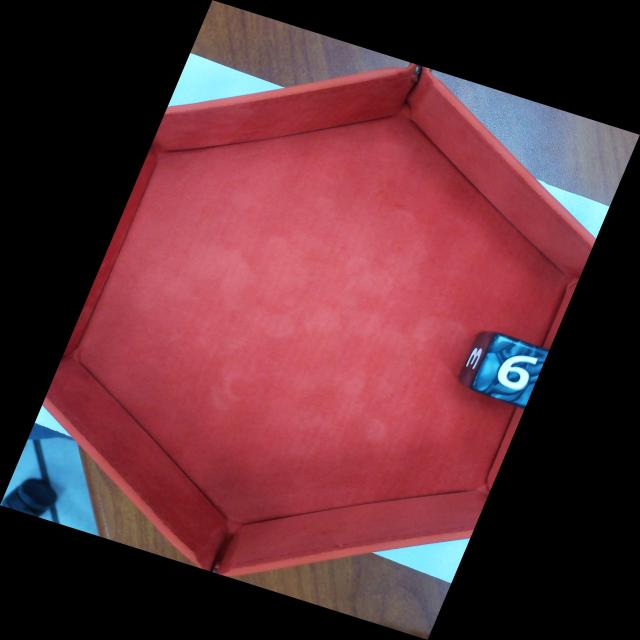dice: (468, 331, 552, 409)
